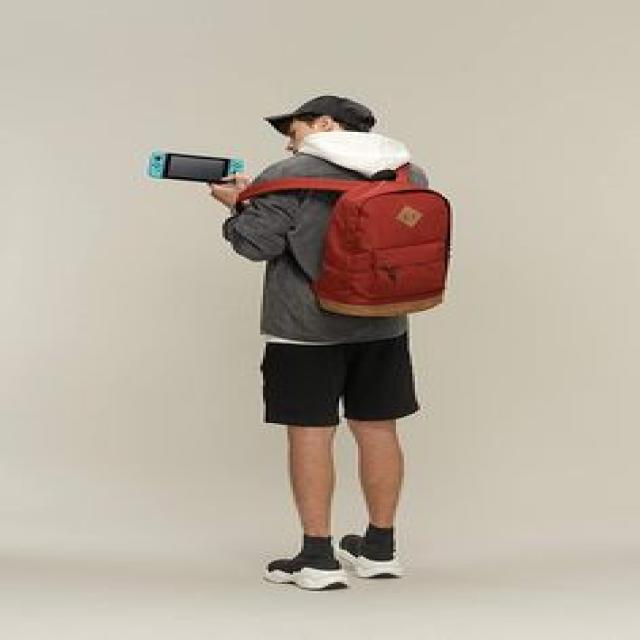handbag: (305, 163, 461, 322)
